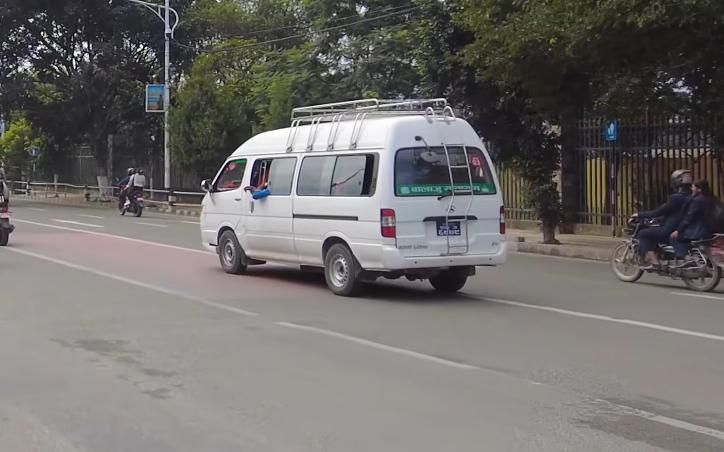bike: (610, 213, 724, 295), (115, 183, 147, 219)
micro_bus: (194, 99, 511, 305)
